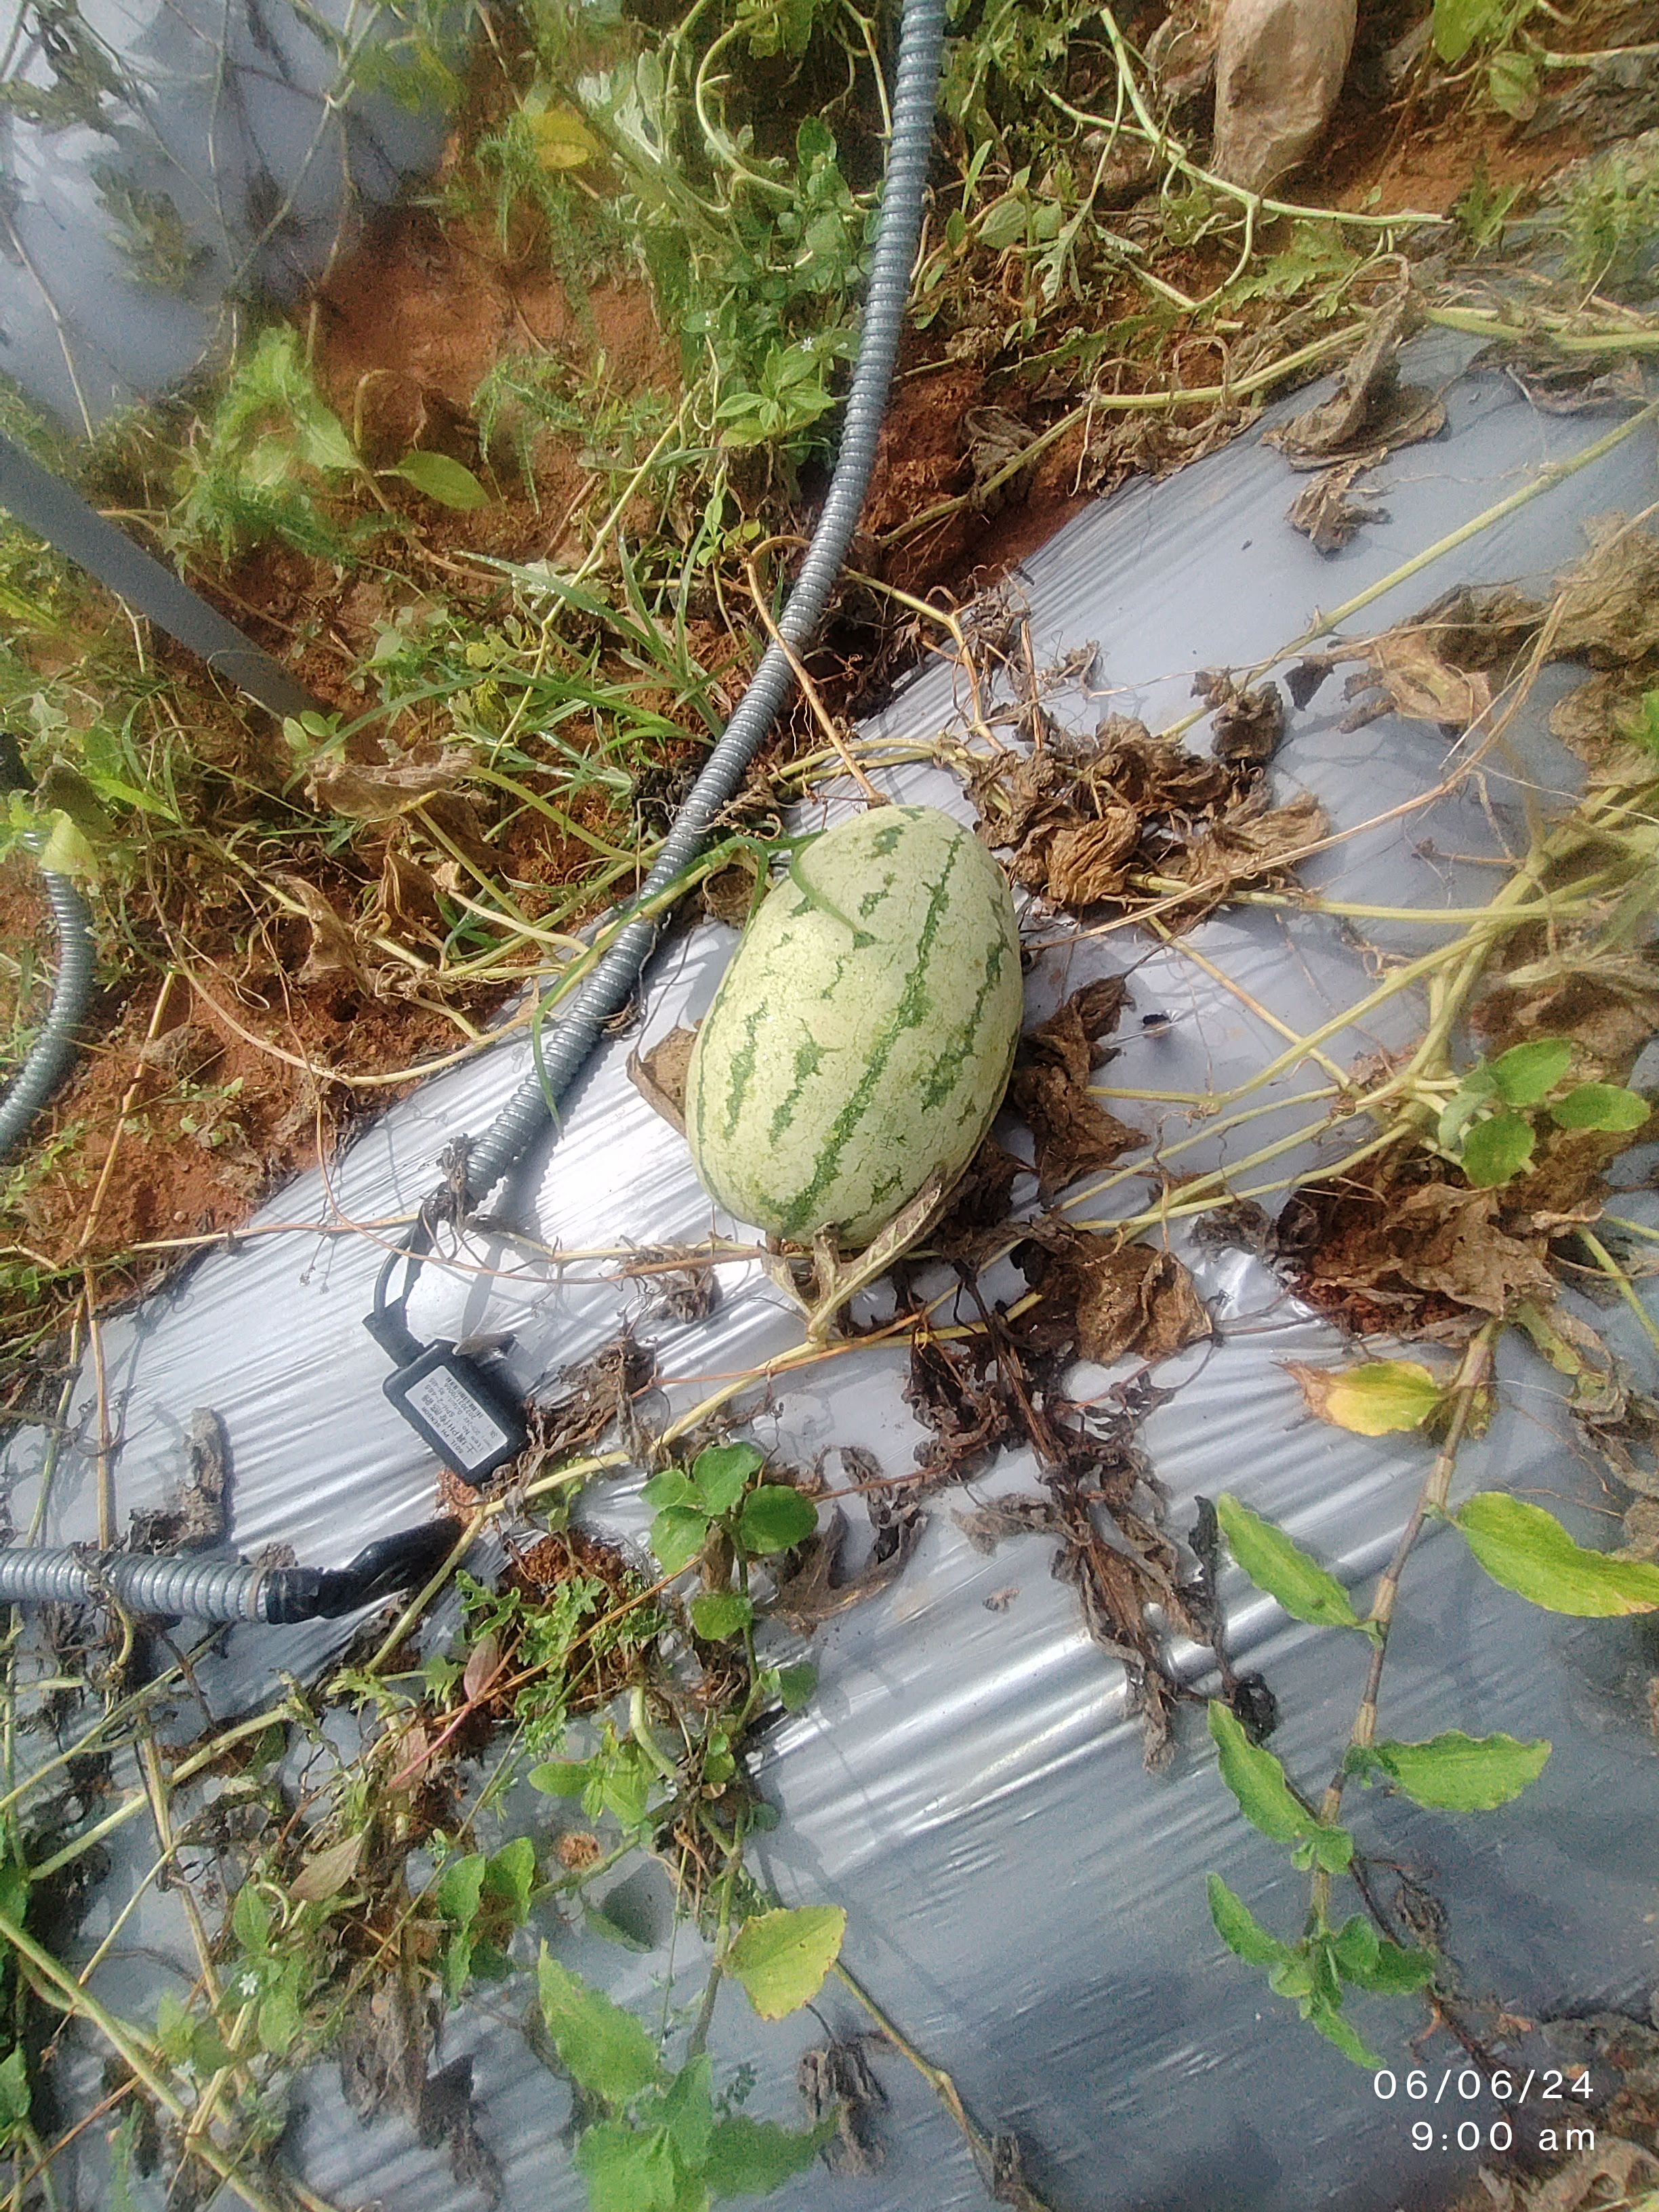good-to-harvest: (704, 707, 1021, 1287)
